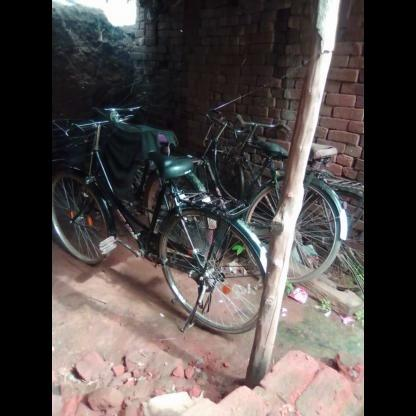Bicycle: (51, 111, 268, 349)
